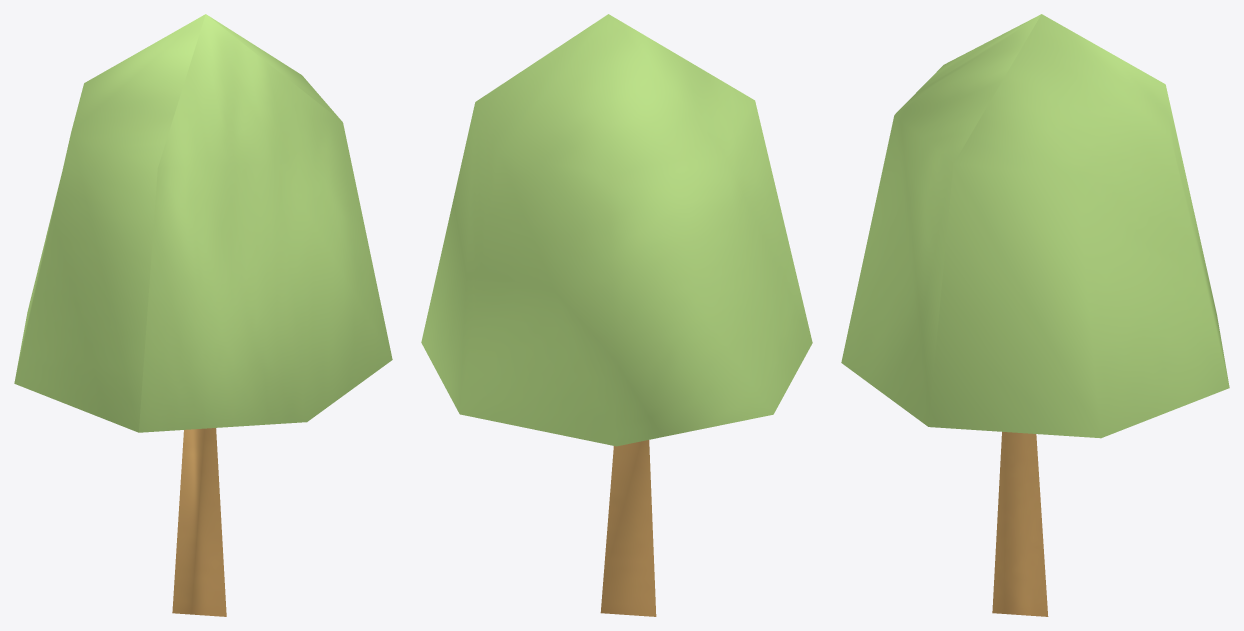
3 renders of one model, left to right at view 1: azimuth 30°, elevation 25°; view 2: azimuth 150°, elevation 25°; view 3: azimuth 270°, elevation 25°, orthographic. The views are drawn at different scales.
Visible parts, largest first — view 1: LOD2Listvennoe.001; view 2: LOD2Listvennoe.001; view 3: LOD2Listvennoe.001.
Part boxes in pixels (<box>): LOD2Listvennoe.001: <box>14,14,392,616</box>; LOD2Listvennoe.001: <box>421,14,812,616</box>; LOD2Listvennoe.001: <box>841,14,1229,616</box>.
Bounding box in the file's own units: 9.06 × 15.31 × 8.97.
1 material, 1 textured.
